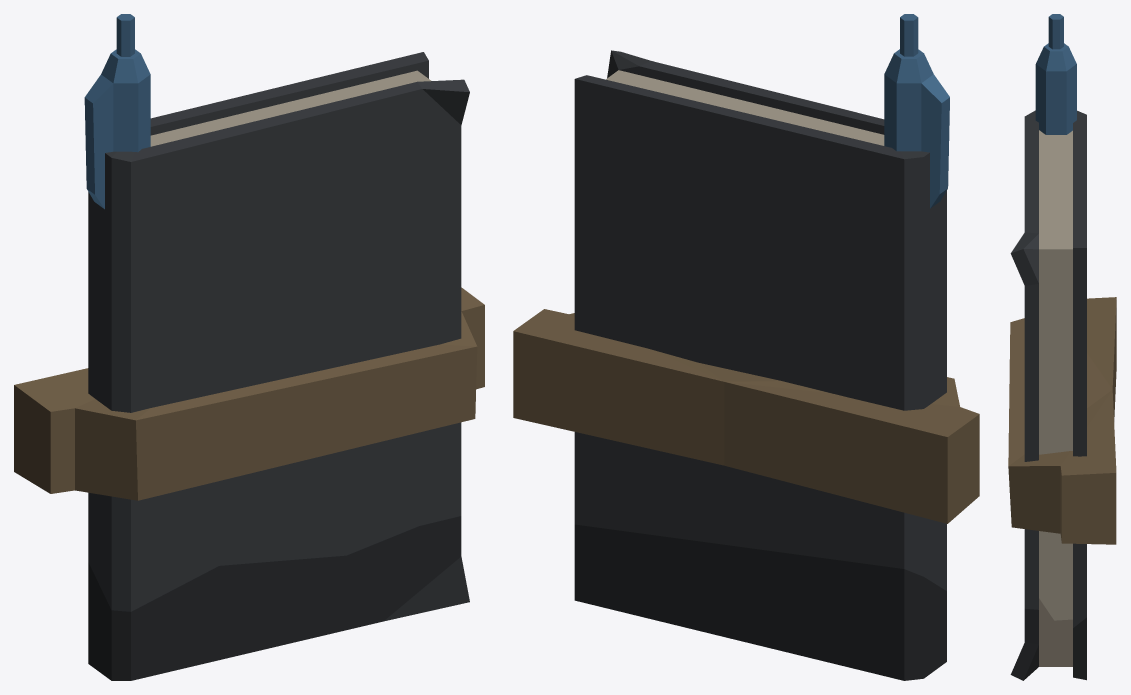
File: SM_Chr_Attach_Book_Pouch_02.fbx
3 renders of one model, left to right at view 1: azimuth 30°, elevation 25°; view 2: azimuth 150°, elevation 25°; view 3: azimuth 270°, elevation 25°, orthographic. The views are drawn at different scales.
Visible parts, largest first — view 1: SM_Chr_Attach_Book_Pouch_02; view 2: SM_Chr_Attach_Book_Pouch_02; view 3: SM_Chr_Attach_Book_Pouch_02.
Part boxes in pixels (<box>): SM_Chr_Attach_Book_Pouch_02: <box>14,14,484,680</box>; SM_Chr_Attach_Book_Pouch_02: <box>513,14,979,680</box>; SM_Chr_Attach_Book_Pouch_02: <box>1008,14,1116,680</box>.
Bounding box in the file's own units: 14.71 × 20.83 × 3.81.
